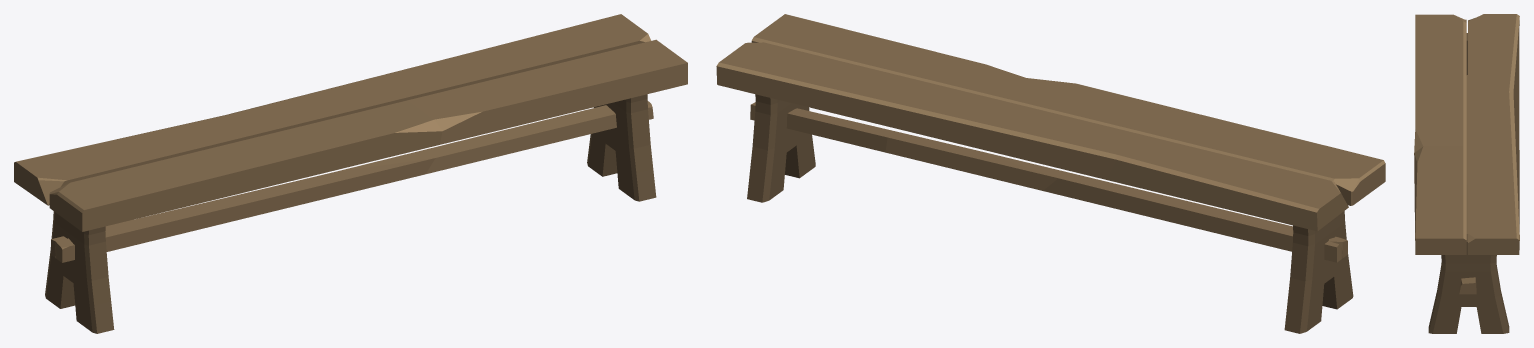
The model's file is WF_LP_HT_Props_Bench.001.fbx.
3 renders of one model, left to right at view 1: azimuth 30°, elevation 25°; view 2: azimuth 150°, elevation 25°; view 3: azimuth 270°, elevation 25°, orthographic. The views are drawn at different scales.
Parts seen in each view (by area): view 1: WF_LP_HT_Props_Bench.001; view 2: WF_LP_HT_Props_Bench.001; view 3: WF_LP_HT_Props_Bench.001.
Part boxes in pixels (x1,y1,x2,y2): WF_LP_HT_Props_Bench.001: (14, 14, 687, 333); WF_LP_HT_Props_Bench.001: (716, 14, 1385, 333); WF_LP_HT_Props_Bench.001: (1414, 14, 1519, 333).
Size of the model in its own units: 2.46 by 0.5318 by 0.4892.
